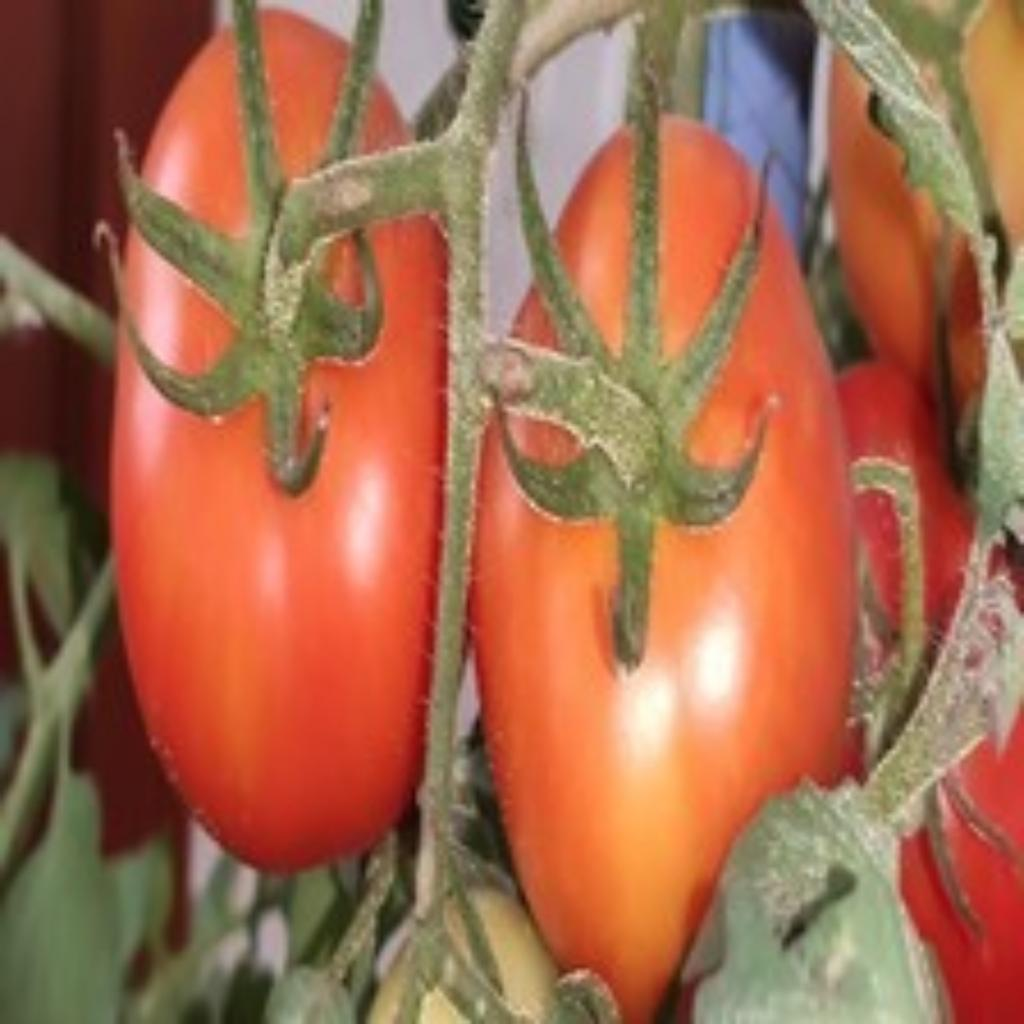tomato: (470, 210, 854, 1024), (114, 216, 448, 871)
